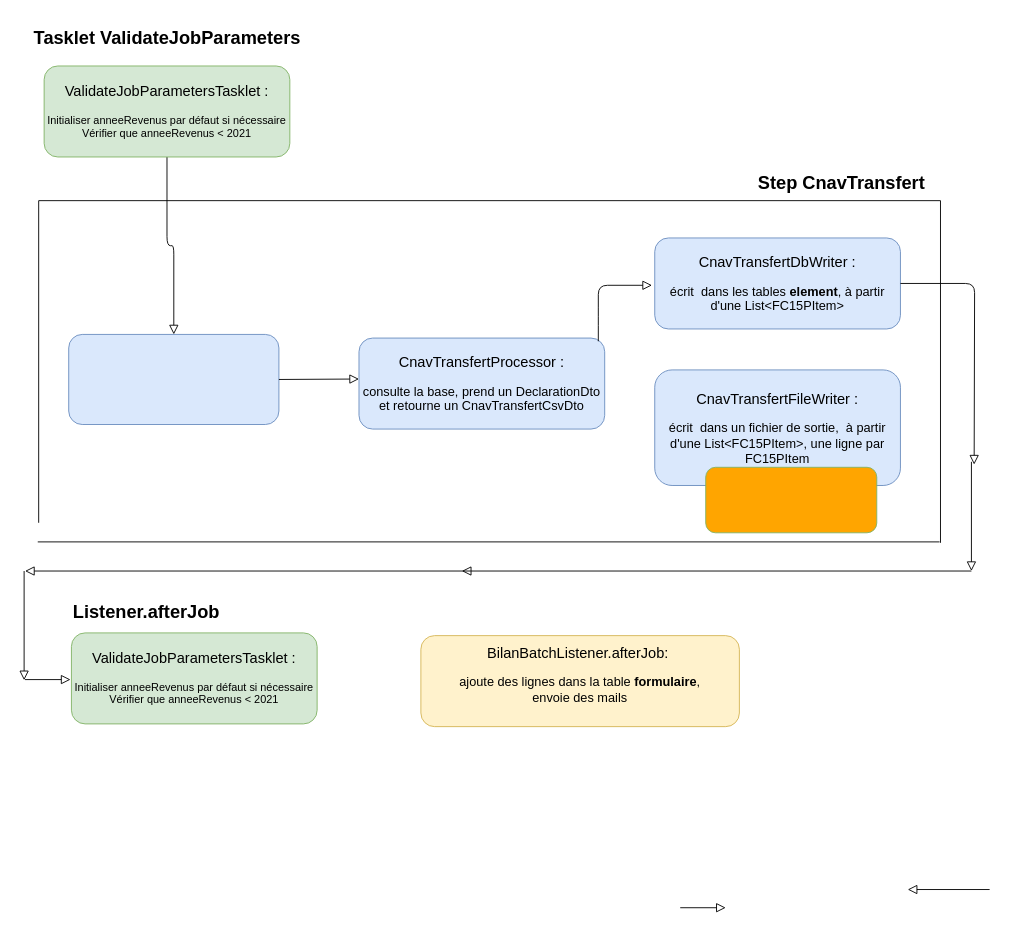
This 1015x933 diagram has some shape labels left out. Each missing label, with the centre of its shape:
"CnavCsvCallBackWriter: met un header & footer dans le fichier de sortie" belongs at [791,499].
"CnavTransfertReader : consulte la base, retourne un DeclarationDto" belongs at [173,379].
